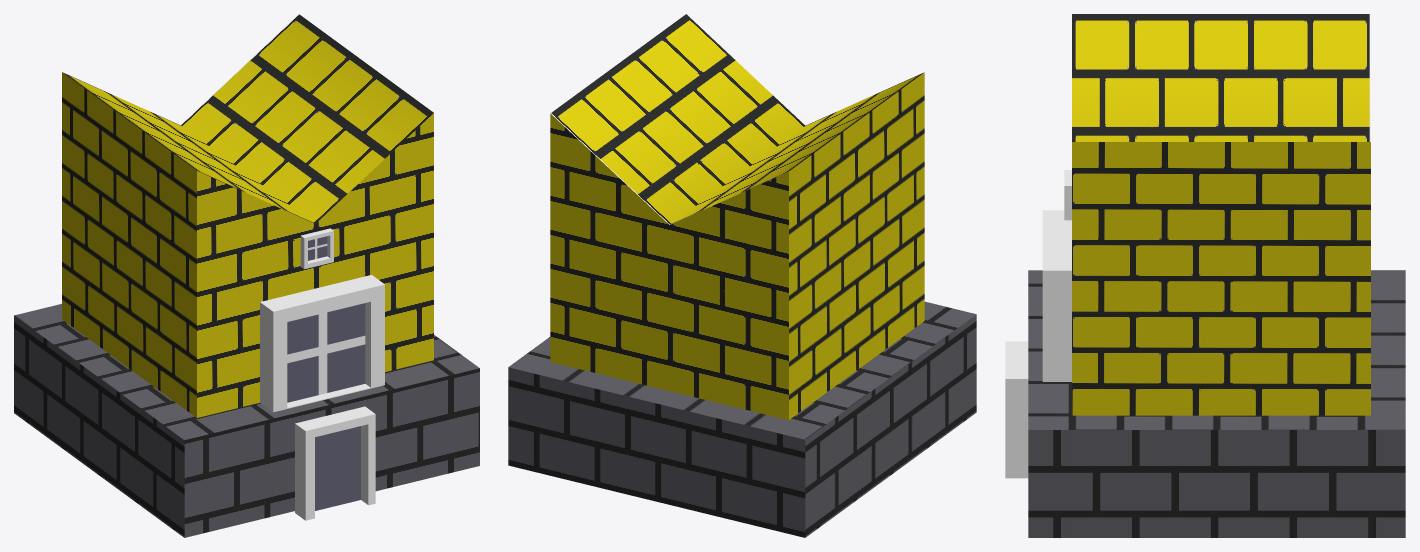
File: shapes_v.fbx
3 views of the same model, side by side, from view 1: azimuth 30°, elevation 25°; view 2: azimuth 150°, elevation 25°; view 3: azimuth 270°, elevation 25° (orthographic). The views are drawn at different scales.
Visible parts, largest first — view 1: pCube26; view 2: pCube26; view 3: pCube26.
Part boxes in pixels (<box>): pCube26: <box>14,14,479,537</box>; pCube26: <box>508,14,976,537</box>; pCube26: <box>1005,14,1405,537</box>.
Size of the model in its own units: 9.91 by 11.13 by 10.52.
1 material, 1 textured.
